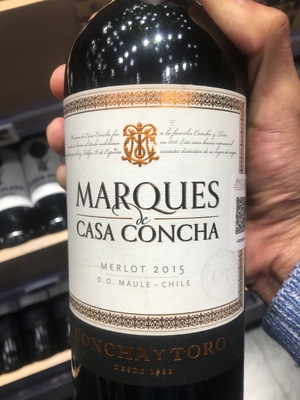marques de casa concha merlot: (63, 6, 253, 400)
